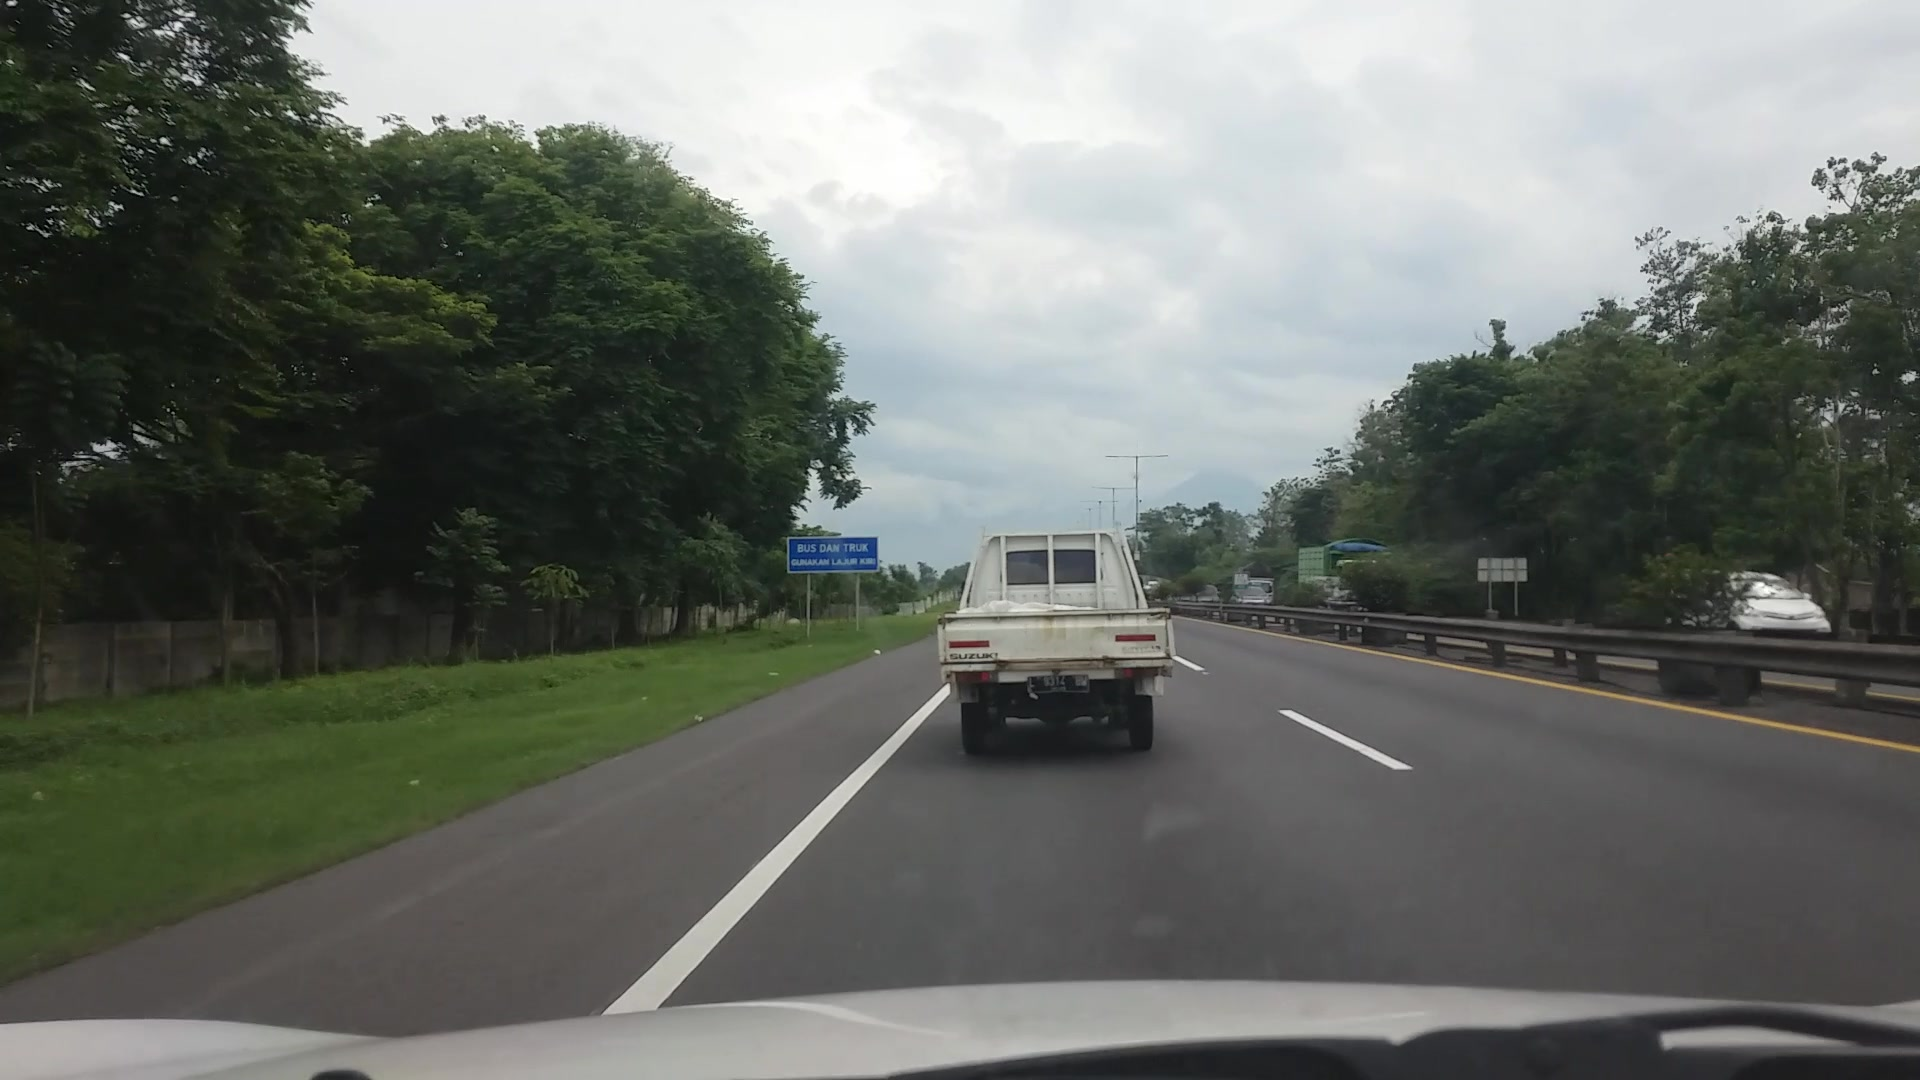plate_positive: (1027, 674, 1089, 694)
